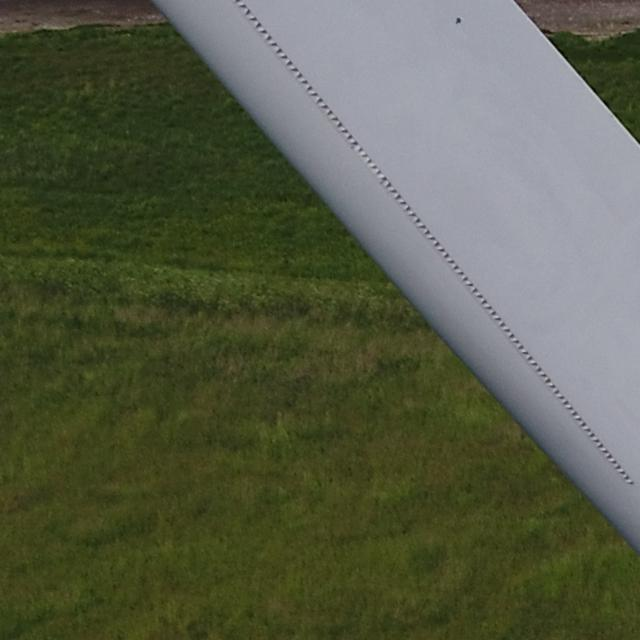damage: (230, 5, 340, 115), (310, 113, 422, 212), (395, 207, 469, 277), (447, 273, 524, 333), (530, 379, 603, 432), (495, 328, 563, 383), (572, 429, 622, 464)
